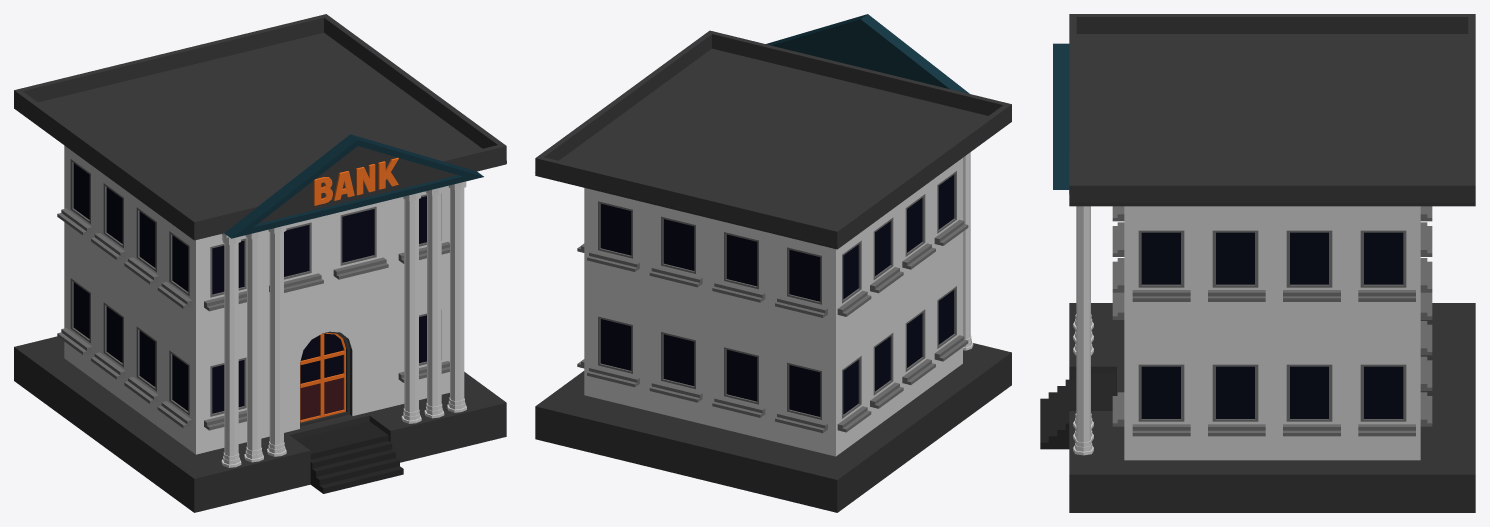
The model's file is Bank.fbx.
3 views of the same model, side by side, from view 1: azimuth 30°, elevation 25°; view 2: azimuth 150°, elevation 25°; view 3: azimuth 270°, elevation 25° (orthographic). The views are drawn at different scales.
Parts seen in each view (by area): view 1: Plane; view 2: Plane; view 3: Plane.
Part boxes in pixels (x1,y1,x2,y2): Plane: [14, 14, 506, 512]; Plane: [535, 14, 1011, 512]; Plane: [1040, 14, 1475, 512].
Bounding box in the file's own units: 961 × 1000 × 1029.
